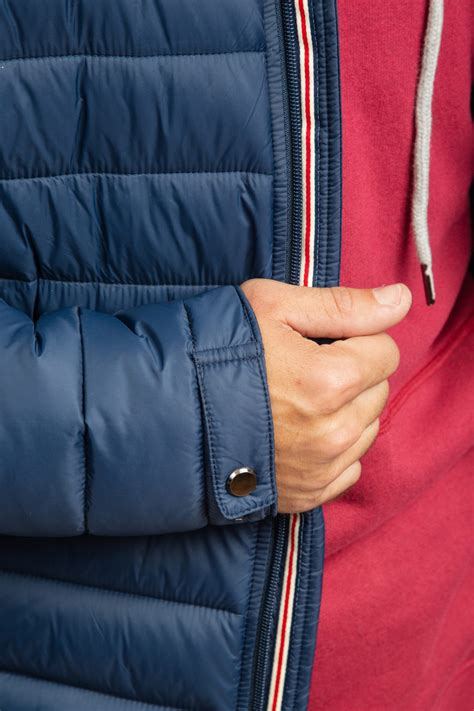nylon: (1, 1, 328, 711)
